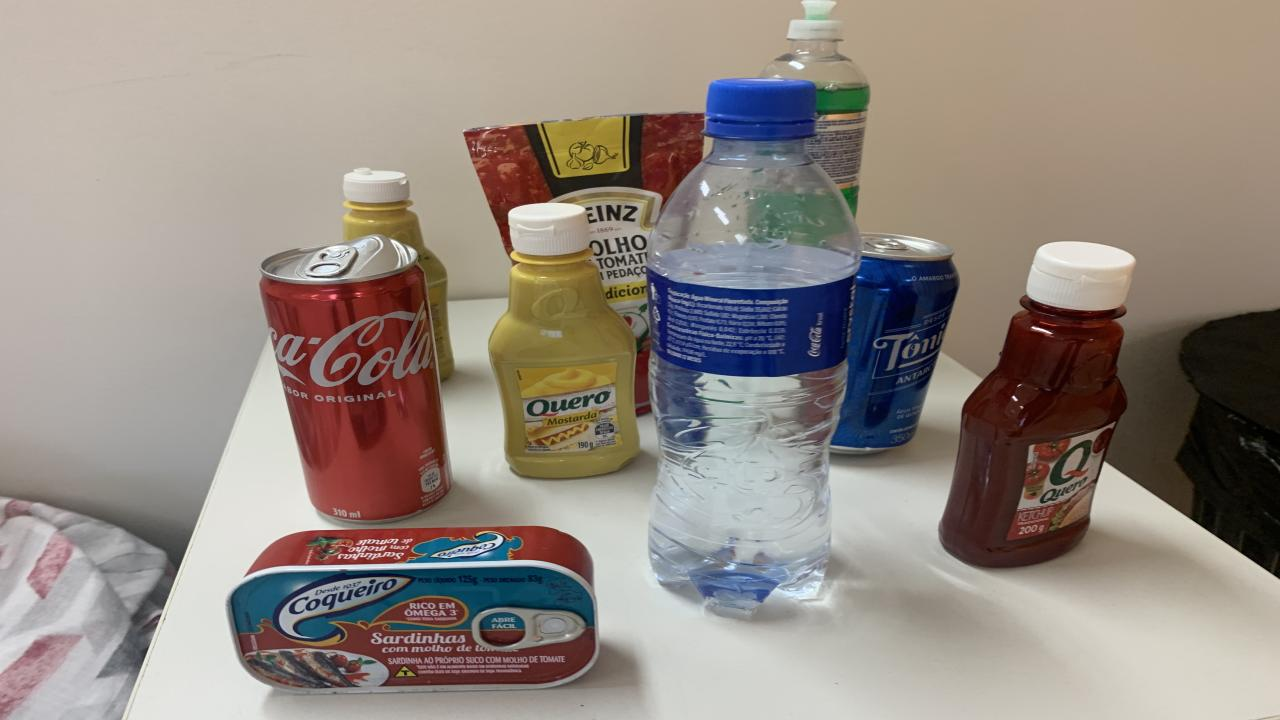Coke-Drinks: (260, 234, 450, 523)
Detergent-Cleanup_Items: (760, 0, 870, 214)
Ketchup-Pantry_Items: (940, 242, 1135, 566)
Mustard-Pantry_Items: (488, 202, 640, 478), (342, 167, 455, 379)
Tomato_Sauce-Pantry_Items: (465, 112, 705, 411)
Tonic-Drinks: (830, 232, 960, 454)
Tuna_Can-Pantry_Items: (228, 527, 598, 694)
Water_Bottle-Drinks: (648, 79, 860, 613)
